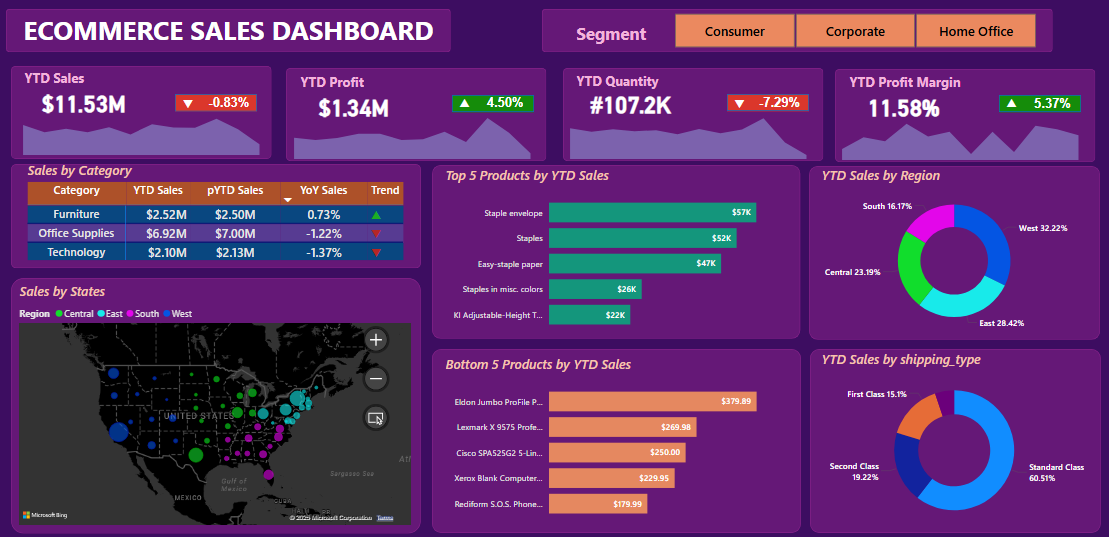

The dashboard page shown, as its layout file describes it:
{"tool":"powerbi","page":{"name":"Dashboard","canvas":[1600,780],"ordinal":0},"visuals":[{"type":"shape","box":[10.7,14.3,640.4,62.4],"z":0},{"type":"textbox","box":[10.7,14.3,640.4,67.8],"z":1000},{"type":"shape","box":[17.8,96.3,375,133.8],"z":2000},{"type":"card","fields":{"Values":["ecommerce_data.YTD Sales"]},"box":[39.2,126.6,165.9,42.8],"z":3000},{"type":"shape","box":[253.3,137.3,117.7,25],"z":4000},{"type":"card","fields":{"Values":["ecommerce_data.YoY Sales"]},"box":[290.7,128.4,80.3,42.8],"z":5000},{"type":"areaChart","fields":{"Category":["Calendar.Month"],"Y":["Sum(ecommerce_data.sales_per_order)"]},"box":[17.8,149.8,375,80.3],"z":6000},{"type":"card","fields":{"Values":["ecommerce_data.Sales Icons"]},"box":[253.3,137.3,37.5,30.3],"z":7000},{"type":"textbox","box":[32.1,96.3,110.6,35.7],"z":8000},{"type":"shape","box":[413.5,99.2,375,134.1],"z":9000},{"type":"card","fields":{"Values":["ecommerce_data.YTD Profit"]},"box":[428.1,132,165.9,42.8],"z":10000},{"type":"areaChart","fields":{"Category":["Calendar.Month"],"Y":["Sum(ecommerce_data.profit_per_order)"]},"box":[406.8,155.1,375,80.4],"z":11000},{"type":"textbox","box":[429.1,101.5,109.5,38],"z":12000},{"type":"shape","box":[651.6,138.1,118.4,24.6],"z":13000},{"type":"card","fields":{"Values":["ecommerce_data.YoY Profit"]},"box":[686.7,128.4,83.8,44.6],"z":14000},{"type":"card","fields":{"Values":["ecommerce_data.Profit Icons"]},"box":[651.4,135.6,35.7,30.3],"z":15000},{"type":"shape","box":[811.4,99.8,375,134.1],"z":16000},{"type":"card","fields":{"Values":["ecommerce_data.YTD Concatenated Qty"]},"box":[825.9,128.4,165.9,42.8],"z":17000},{"type":"areaChart","fields":{"Category":["Calendar.Month"],"Y":["Sum(ecommerce_data.order_quantity)"]},"box":[804.7,155.7,375,80.4],"z":18000},{"type":"textbox","box":[826,101,165.4,38],"z":19000},{"type":"shape","box":[1047.7,136.9,118.4,24.6],"z":20000},{"type":"card","fields":{"Values":["ecommerce_data.YoY Quantity"]},"box":[1082.7,128.4,82.1,44.6],"z":21000},{"type":"card","fields":{"Values":["ecommerce_data.Quantity Icons"]},"box":[1047,137.3,35.7,30.3],"z":22000},{"type":"shape","box":[1203.1,100.9,375,134.1],"z":23000},{"type":"card","fields":{"Values":["ecommerce_data.YTD Profit Margin"]},"box":[1218.3,132,165.9,42.8],"z":24000},{"type":"areaChart","fields":{"Category":["Calendar.Month"],"Y":["ecommerce_data.Profit Margin"]},"box":[1196.4,156.8,375,80.4],"z":25000},{"type":"textbox","box":[1218.3,101.7,205.1,39.2],"z":26000},{"type":"shape","box":[1439.4,138,118.4,24.6],"z":27000},{"type":"card","fields":{"Values":["ecommerce_data.YoY Profit Margin"]},"box":[1475.1,130.2,82.1,44.6],"z":28000},{"type":"card","fields":{"Values":["ecommerce_data.Profit Margin Icons"]},"box":[1439.3,135.5,35.7,30.3],"z":29000},{"type":"shape","box":[17.4,237.8,590,150],"z":30000},{"type":"pivotTable","title":"Sales by Category","fields":{"Rows":["ecommerce_data.category_name"],"Values":["ecommerce_data.YTD Sales","ecommerce_data.pYTD Sales","ecommerce_data.YoY Sales","ecommerce_data.Trend"]},"box":[35.7,233.7,560.1,149.8],"z":31000},{"type":"shape","box":[17.4,401.1,589.8,367.8],"z":32000},{"type":"map","title":"Sales by States","fields":{"Y":["us_state_long_lat_codes.latitude"],"X":["us_state_long_lat_codes.longitude"],"Size":["ecommerce_data.YTD Sales"],"Series":["ecommerce_data.customer_region"]},"box":[25,406.7,572.6,355],"z":33000},{"type":"shape","box":[623,239.4,531.1,250.5],"z":34000},{"type":"shape","box":[623,504.1,531.1,264.8],"z":35000},{"type":"barChart","title":"Top 5 Products by YTD Sales","fields":{"Category":["ecommerce_data.product_name"],"Y":["ecommerce_data.YTD Sales"]},"box":[637.3,241,504.1,248.9],"z":36000},{"type":"barChart","title":"Bottom 5 Products by YTD Sales","fields":{"Category":["ecommerce_data.product_name"],"Y":["ecommerce_data.YTD Sales"]},"box":[637.3,512.1,504.1,248.9],"z":37000},{"type":"shape","box":[1165.2,241,418.5,250.5],"z":38000},{"type":"shape","box":[1166.8,504.1,418.5,264.8],"z":39000},{"type":"donutChart","fields":{"Category":["ecommerce_data.Region"],"Y":["ecommerce_data.YTD Sales"]},"box":[1179,240.8,392.4,247.9],"z":40000},{"type":"donutChart","fields":{"Y":["ecommerce_data.YTD Sales"],"Category":["ecommerce_data.shipping_type"]},"box":[1179,504.8,392.4,264],"z":41000},{"type":"shape","box":[781.3,14.3,734.9,62.4],"z":42000},{"type":"slicer","fields":{"Values":["ecommerce_data.customer_segment"]},"box":[947.2,14.3,569,62.4],"z":43000},{"type":"textbox","box":[800.9,26.8,158.8,49.9],"z":43002}]}

Visuals, with their boxes in screenshot pixels (x1, y1, x2, y2), scaled from the page's 1600x780 canvas onto the 1109x537 screenshot:
shape: 7:10:451:53
textbox: 7:10:451:57
shape: 12:66:272:158
card - ecommerce_data.YTD Sales: 27:87:142:117
shape: 176:95:257:112
card - ecommerce_data.YoY Sales: 201:88:257:118
areaChart - Calendar.Month x Sum(ecommerce_data.sales_per_order): 12:103:272:158
card - ecommerce_data.Sales Icons: 176:95:202:115
textbox: 22:66:99:91
shape: 287:68:547:161
card - ecommerce_data.YTD Profit: 297:91:412:120
areaChart - Calendar.Month x Sum(ecommerce_data.profit_per_order): 282:107:542:162
textbox: 297:70:373:96
shape: 452:95:534:112
card - ecommerce_data.YoY Profit: 476:88:534:119
card - ecommerce_data.Profit Icons: 452:93:476:114
shape: 562:69:822:161
card - ecommerce_data.YTD Concatenated Qty: 572:88:687:118
areaChart - Calendar.Month x Sum(ecommerce_data.order_quantity): 558:107:818:163
textbox: 573:70:687:96
shape: 726:94:808:111
card - ecommerce_data.YoY Quantity: 750:88:807:119
card - ecommerce_data.Quantity Icons: 726:95:750:115
shape: 834:69:1094:162
card - ecommerce_data.YTD Profit Margin: 844:91:959:120
areaChart - Calendar.Month x ecommerce_data.Profit Margin: 829:108:1089:163
textbox: 844:70:987:97
shape: 998:95:1080:112
card - ecommerce_data.YoY Profit Margin: 1022:90:1079:120
card - ecommerce_data.Profit Margin Icons: 998:93:1022:114
shape: 12:164:421:267
"Sales by Category" pivotTable: 25:161:413:264
shape: 12:276:421:529
"Sales by States" map: 17:280:414:524
shape: 432:165:800:337
shape: 432:347:800:529
"Top 5 Products by YTD Sales" barChart: 442:166:791:337
"Bottom 5 Products by YTD Sales" barChart: 442:353:791:524
shape: 808:166:1098:338
shape: 809:347:1099:529
donutChart - ecommerce_data.Region x ecommerce_data.YTD Sales: 817:166:1089:336
donutChart - ecommerce_data.YTD Sales x ecommerce_data.shipping_type: 817:348:1089:529
shape: 542:10:1051:53
slicer - ecommerce_data.customer_segment: 657:10:1051:53
textbox: 555:18:665:53
